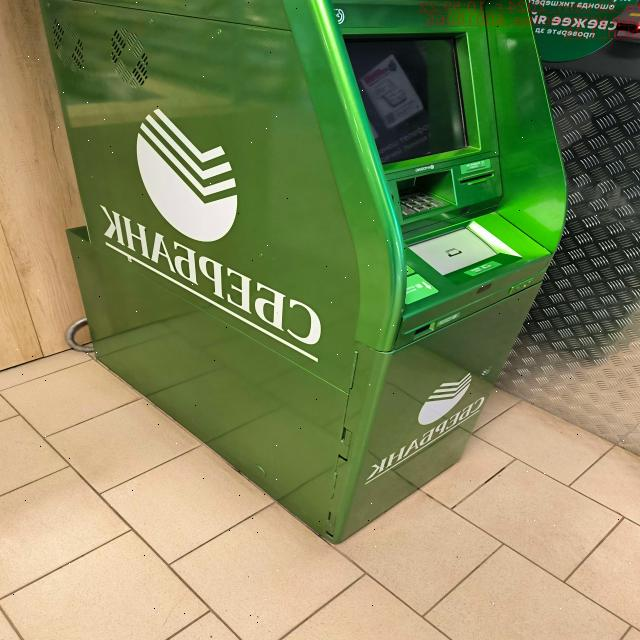bank: (31, 0, 565, 546)
